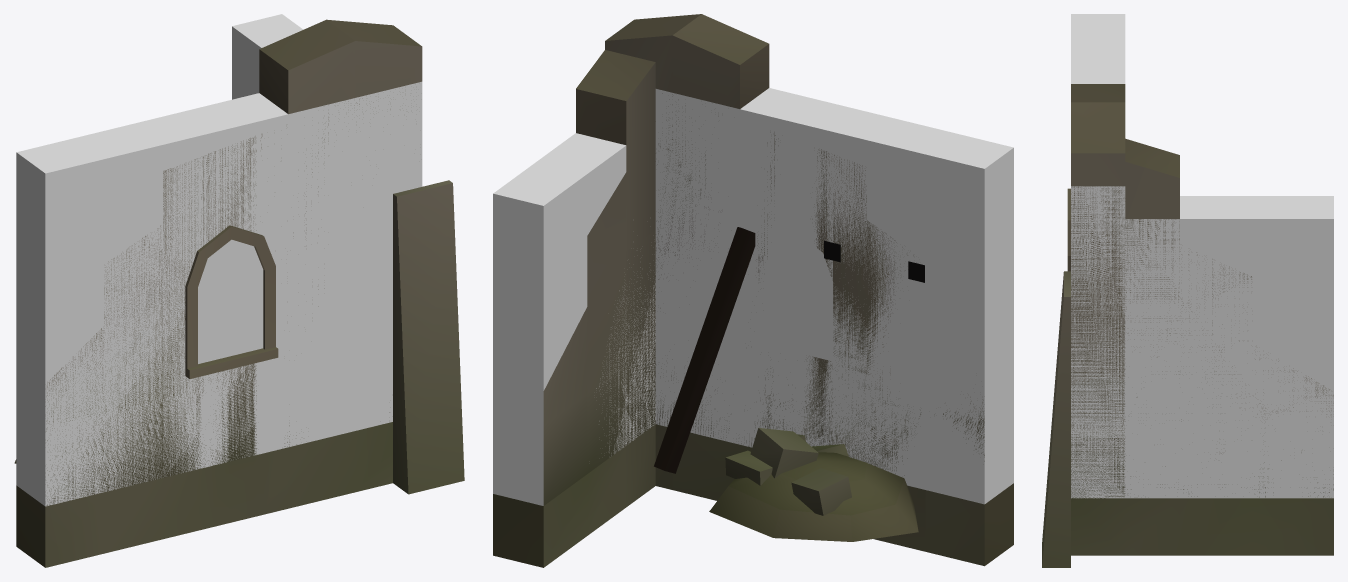
File: ruin_wall_a.glb
The picture shows the model from 3 angles, left to right: view 1: azimuth 30°, elevation 25°; view 2: azimuth 150°, elevation 25°; view 3: azimuth 270°, elevation 25°; orthographic projection. The views are drawn at different scales.
Parts seen in each view (by area): view 1: COL_wall, ruin_wall_a, COL_return; view 2: COL_wall, ruin_wall_a, COL_return; view 3: COL_return, ruin_wall_a, COL_wall.
Boxes of the visible parts, x1,y1,x2,y2 form: COL_wall: (16,81,422,506); ruin_wall_a: (14,19,464,567); COL_return: (232,14,303,99); COL_wall: (655,88,1013,504); ruin_wall_a: (493,14,1013,567); COL_return: (493,133,655,505); COL_return: (1125,196,1333,498); ruin_wall_a: (1042,84,1333,567); COL_wall: (1071,14,1125,498).
Size of the model in its own units: 4.82 by 5.15 by 3.22.
